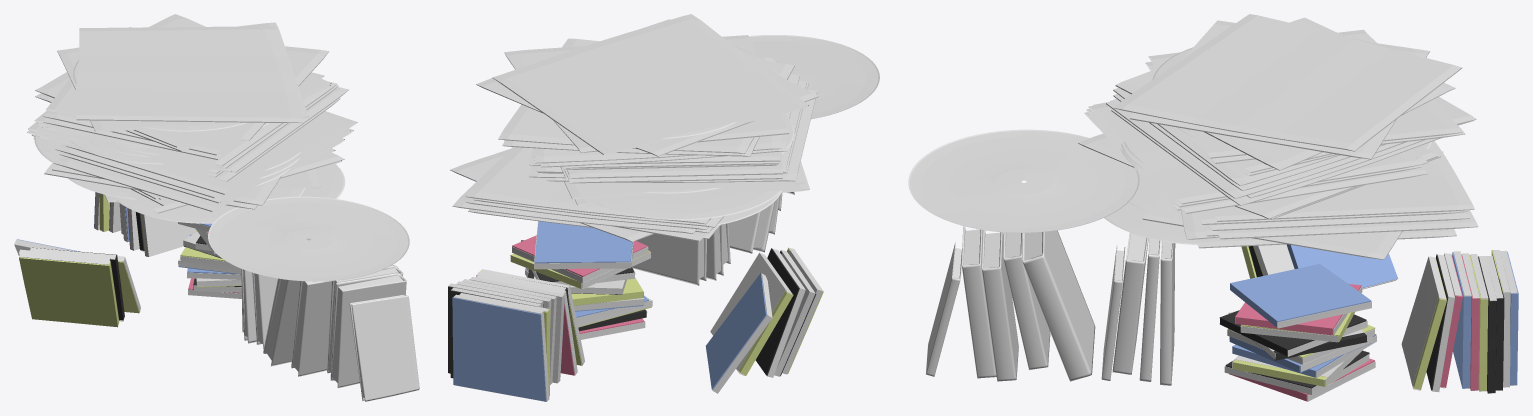
Rendered from chambre test biblio g10.fbx.
3 renders of one model, left to right at view 1: azimuth 30°, elevation 25°; view 2: azimuth 150°, elevation 25°; view 3: azimuth 270°, elevation 25°, orthographic. The views are drawn at different scales.
Visible parts, largest first — view 1: Vinyle_Pochette_C.043|Vinyle_Pochette_C.001|Dupli|, Vinyle_B.089|Vinyle_B.001|Dupli|, Livre_Fermee_A.095|Livre_Fermee_A|Dupli|, CD_Pochette_Fermee_D.072|CD_Pochette_Fermee_D.123|Dupli|1, Vinyle_Pochette_D.036|Vinyle_Pochette_D.001|Dupli|, Livre_Fermee_B.130|Livre_Fermee_B|Dupli|, Livre_Fermee_B.132|Livre_Fermee_B|Dupli|, Vinyle_Pochette_D.040|Vinyle_Pochette_D.001|Dupli|, Vinyle_Pochette_C.038|Vinyle_Pochette_C.001|Dupli|, Livre_Fermee_D.070|Livre_Fermee_D|Dupli|, Vinyle_Pochette_D.039|Vinyle_Pochette_D.001|Dupli|, Vinyle_Pochette_B.048|Vinyle_Pochette_B.001|Dupli| (+31 smaller); view 2: Vinyle_Pochette_C.043|Vinyle_Pochette_C.001|Dupli|, CD_Pochette_Fermee_C.059|CD_Pochette_Fermee_C.103|Dupli|1, Vinyle_B.089|Vinyle_B.001|Dupli|, Vinyle_Pochette_D.035|Vinyle_Pochette_D.001|Dupli|, CD_Pochette_Fermee_C.057|CD_Pochette_Fermee_C.103|Dupli|1, Vinyle_B.079|Vinyle_B.001|Dupli|, Vinyle_Pochette_D.039|Vinyle_Pochette_D.001|Dupli|, CD_Pochette_Fermee_C.058|CD_Pochette_Fermee_C.103|Dupli|1, Livre_Fermee_C.141|Livre_Fermee_C|Dupli|, Vinyle_Pochette_D.040|Vinyle_Pochette_D.001|Dupli|, Vinyle_Pochette_A.026|Vinyle_Pochette_A.001|Dupli|, Vinyle_Pochette_B.043|Vinyle_Pochette_B.001|Dupli| (+46 smaller); view 3: Vinyle_Pochette_C.043|Vinyle_Pochette_C.001|Dupli|, Vinyle_B.089|Vinyle_B.001|Dupli|, Livre_Fermee_D.070|Livre_Fermee_D|Dupli|, Vinyle_Pochette_D.035|Vinyle_Pochette_D.001|Dupli|, CD_Pochette_Fermee_C.057|CD_Pochette_Fermee_C.103|Dupli|1, Vinyle_Pochette_D.036|Vinyle_Pochette_D.001|Dupli|, Livre_Fermee_B.131|Livre_Fermee_B|Dupli|, Livre_Fermee_B.132|Livre_Fermee_B|Dupli|, Vinyle_Pochette_D.039|Vinyle_Pochette_D.001|Dupli|, Livre_Fermee_B.130|Livre_Fermee_B|Dupli|, Vinyle_Pochette_D.034|Vinyle_Pochette_D.001|Dupli|, Livre_Fermee_B.133|Livre_Fermee_B|Dupli| (+47 smaller).
Boxes of the visible parts, x1=… form: Vinyle_Pochette_C.043|Vinyle_Pochette_C.001|Dupli|: x1=76, y1=26, x2=302, y2=122; Vinyle_B.089|Vinyle_B.001|Dupli|: x1=208, y1=196, x2=409, y2=281; Livre_Fermee_A.095|Livre_Fermee_A|Dupli|: x1=349, y1=294, x2=419, y2=401; CD_Pochette_Fermee_D.072|CD_Pochette_Fermee_D.123|Dupli|1: x1=19, y1=257, x2=119, y2=327; Vinyle_Pochette_D.036|Vinyle_Pochette_D.001|Dupli|: x1=66, y1=111, x2=357, y2=194; Livre_Fermee_B.130|Livre_Fermee_B|Dupli|: x1=330, y1=272, x2=406, y2=388; Livre_Fermee_B.132|Livre_Fermee_B|Dupli|: x1=291, y1=281, x2=331, y2=376; Vinyle_Pochette_D.040|Vinyle_Pochette_D.001|Dupli|: x1=46, y1=46, x2=329, y2=141; Vinyle_Pochette_C.038|Vinyle_Pochette_C.001|Dupli|: x1=53, y1=138, x2=344, y2=211; Livre_Fermee_D.070|Livre_Fermee_D|Dupli|: x1=263, y1=278, x2=299, y2=366; Vinyle_Pochette_D.039|Vinyle_Pochette_D.001|Dupli|: x1=35, y1=14, x2=331, y2=147; Vinyle_Pochette_B.048|Vinyle_Pochette_B.001|Dupli|: x1=57, y1=22, x2=308, y2=132; Vinyle_Pochette_C.043|Vinyle_Pochette_C.001|Dupli|: x1=492, y1=14, x2=808, y2=154; CD_Pochette_Fermee_C.059|CD_Pochette_Fermee_C.103|Dupli|1: x1=452, y1=296, x2=546, y2=401; Vinyle_B.089|Vinyle_B.001|Dupli|: x1=749, y1=35, x2=879, y2=119; Vinyle_Pochette_D.035|Vinyle_Pochette_D.001|Dupli|: x1=465, y1=147, x2=710, y2=224; CD_Pochette_Fermee_C.057|CD_Pochette_Fermee_C.103|Dupli|1: x1=534, y1=221, x2=632, y2=263; Vinyle_B.079|Vinyle_B.001|Dupli|: x1=594, y1=190, x2=782, y2=220; Vinyle_Pochette_D.039|Vinyle_Pochette_D.001|Dupli|: x1=498, y1=38, x2=794, y2=153; CD_Pochette_Fermee_C.058|CD_Pochette_Fermee_C.103|Dupli|1: x1=705, y1=273, x2=766, y2=389; Livre_Fermee_C.141|Livre_Fermee_C|Dupli|: x1=632, y1=234, x2=706, y2=285; Vinyle_Pochette_D.040|Vinyle_Pochette_D.001|Dupli|: x1=504, y1=35, x2=789, y2=152; Vinyle_Pochette_A.026|Vinyle_Pochette_A.001|Dupli|: x1=564, y1=167, x2=804, y2=199; Vinyle_Pochette_B.043|Vinyle_Pochette_B.001|Dupli|: x1=567, y1=151, x2=782, y2=178; Vinyle_Pochette_C.043|Vinyle_Pochette_C.001|Dupli|: x1=1113, y1=14, x2=1462, y2=151; Vinyle_B.089|Vinyle_B.001|Dupli|: x1=908, y1=129, x2=1139, y2=232; Livre_Fermee_D.070|Livre_Fermee_D|Dupli|: x1=1021, y1=230, x2=1095, y2=381; Vinyle_Pochette_D.035|Vinyle_Pochette_D.001|Dupli|: x1=1213, y1=141, x2=1474, y2=221; CD_Pochette_Fermee_C.057|CD_Pochette_Fermee_C.103|Dupli|1: x1=1230, y1=264, x2=1371, y2=327; Vinyle_Pochette_D.036|Vinyle_Pochette_D.001|Dupli|: x1=1088, y1=103, x2=1423, y2=204; Livre_Fermee_B.131|Livre_Fermee_B|Dupli|: x1=981, y1=230, x2=1018, y2=381; Livre_Fermee_B.132|Livre_Fermee_B|Dupli|: x1=1003, y1=232, x2=1050, y2=370; Vinyle_Pochette_D.039|Vinyle_Pochette_D.001|Dupli|: x1=1148, y1=29, x2=1462, y2=158; Livre_Fermee_B.130|Livre_Fermee_B|Dupli|: x1=961, y1=226, x2=996, y2=378; Vinyle_Pochette_D.034|Vinyle_Pochette_D.001|Dupli|: x1=1142, y1=151, x2=1442, y2=259; Livre_Fermee_B.133|Livre_Fermee_B|Dupli|: x1=1112, y1=232, x2=1148, y2=374.
Bounding box in the file's own units: 52.18 × 36.49 × 78.59.
